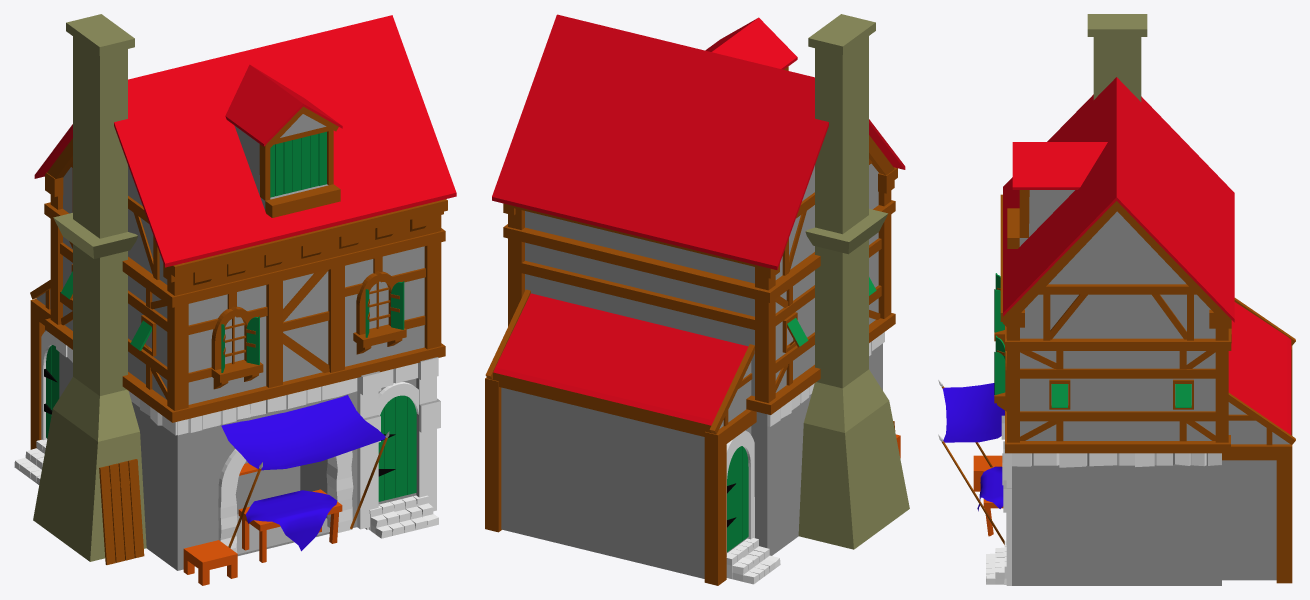
The model's file is fantasyhouse 2.fbx.
The picture shows the model from 3 angles, left to right: view 1: azimuth 30°, elevation 25°; view 2: azimuth 150°, elevation 25°; view 3: azimuth 270°, elevation 25°; orthographic projection. The views are drawn at different scales.
Parts seen in each view (by area): view 1: FantasyHouse2; view 2: FantasyHouse2; view 3: FantasyHouse2.
Part boxes in pixels (<box>): FantasyHouse2: <box>14,14,456,585</box>; FantasyHouse2: <box>485,14,909,585</box>; FantasyHouse2: <box>938,14,1295,585</box>.
Bounding box in the file's own units: 782 × 1137 × 822.
